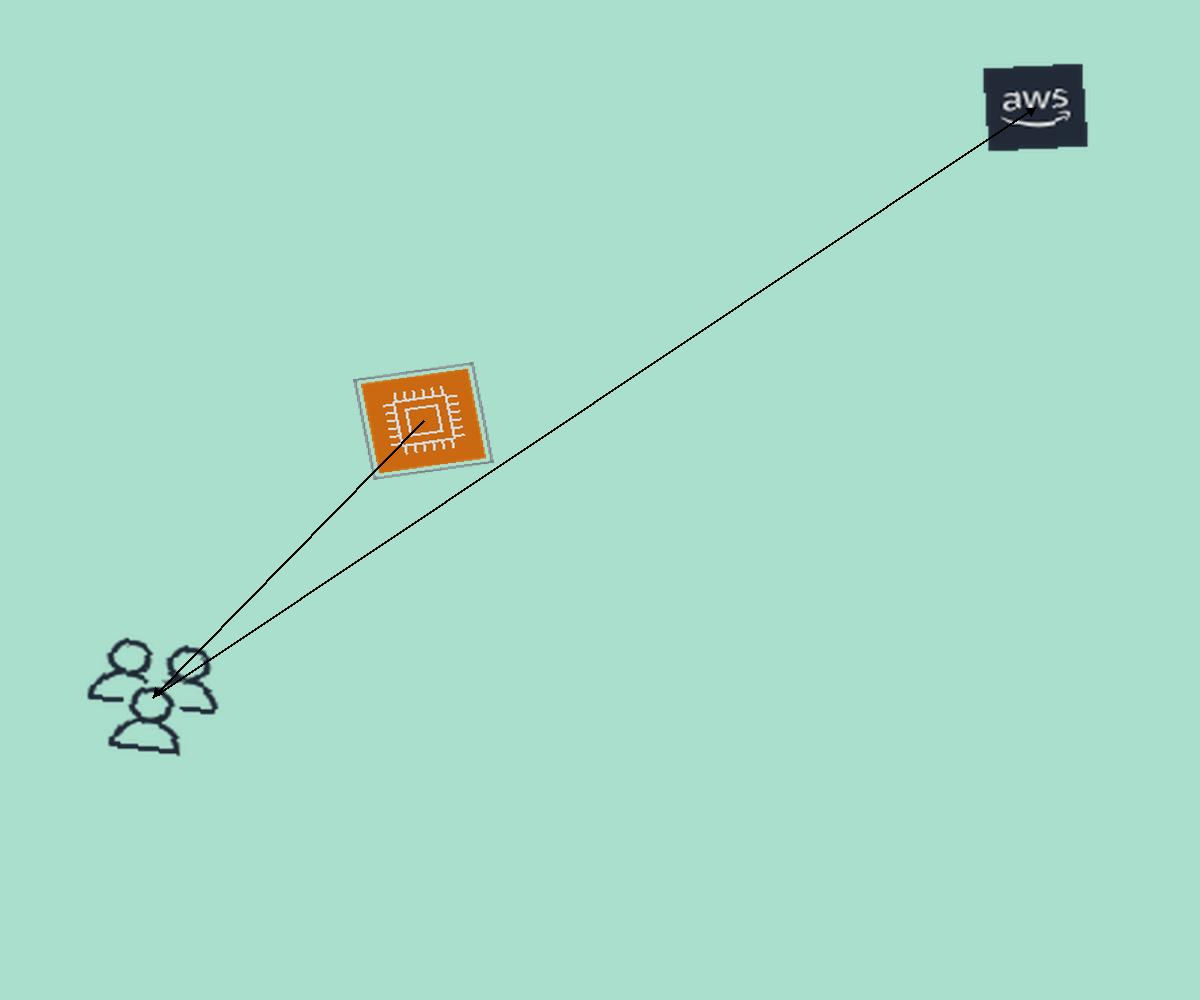AWS-Category_Compute: (353, 362, 494, 480)
AWS-Cloud-logo: (981, 62, 1090, 153)
AWS-Res_Users: (70, 628, 236, 766)
